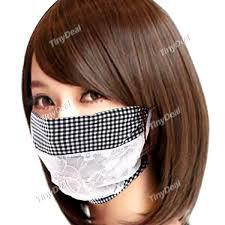OK: (28, 80, 153, 205)
